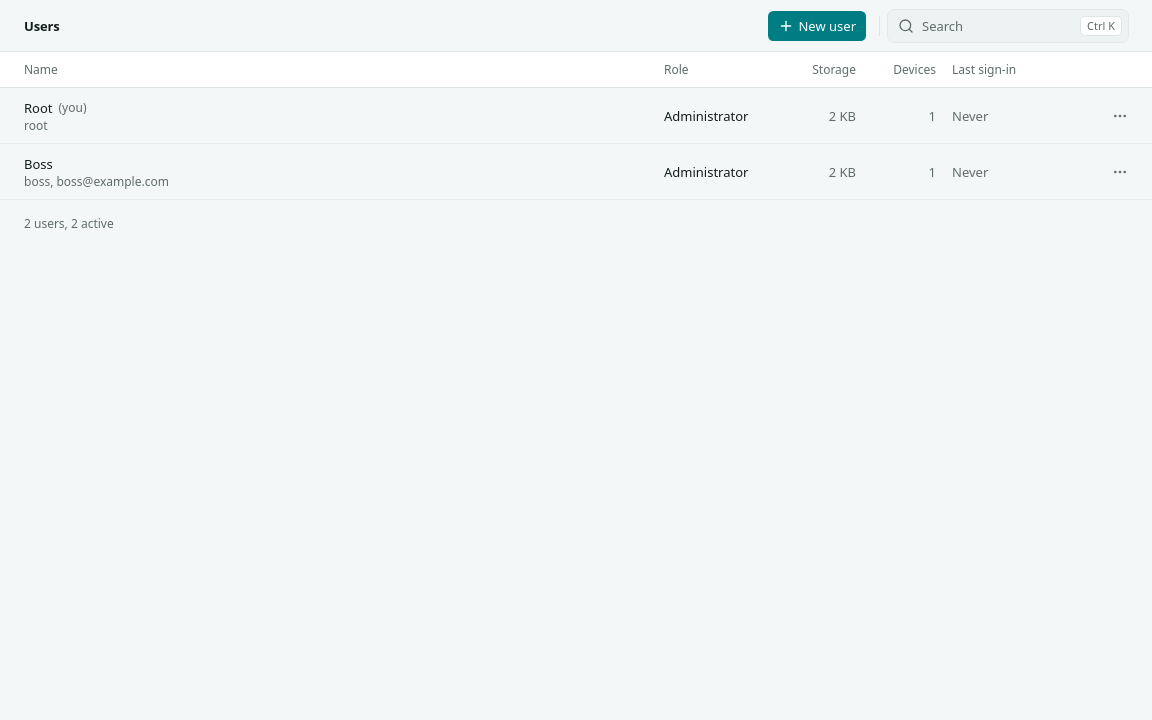
Test: shows the last-admin conflict inline in the edit dialog
The width and height of the screenshot is (1152, 720).
Press Enter in the button named "Actions for Boss", box x1=1104 y1=156 x2=1136 y2=188
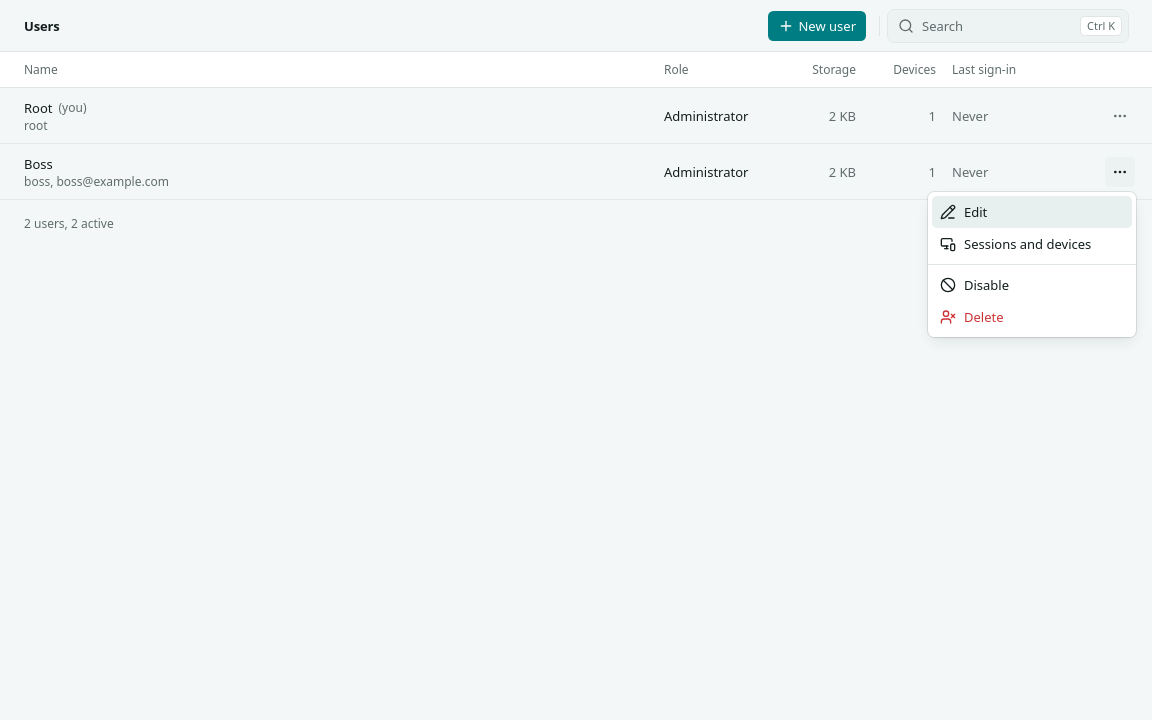
Click the menu item "Edit" at (1032, 212), box x1=932 y1=196 x2=1132 y2=228
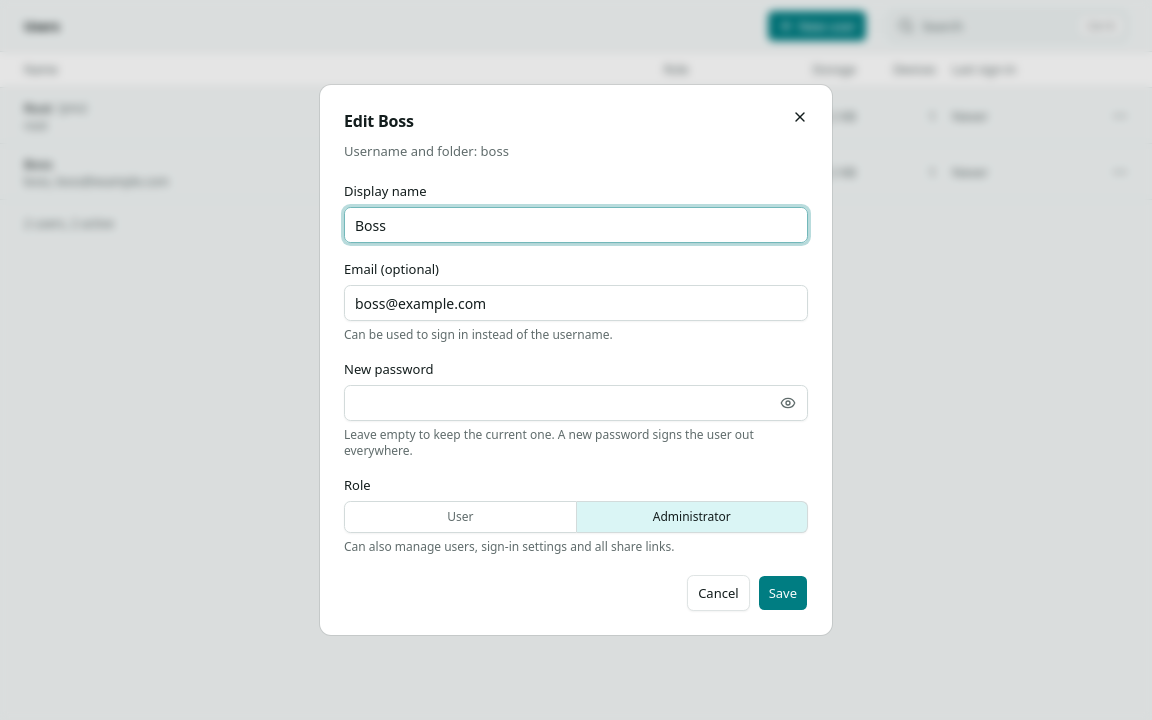
Click the radio button labelled "User" at (460, 517), box x1=344 y1=501 x2=576 y2=533
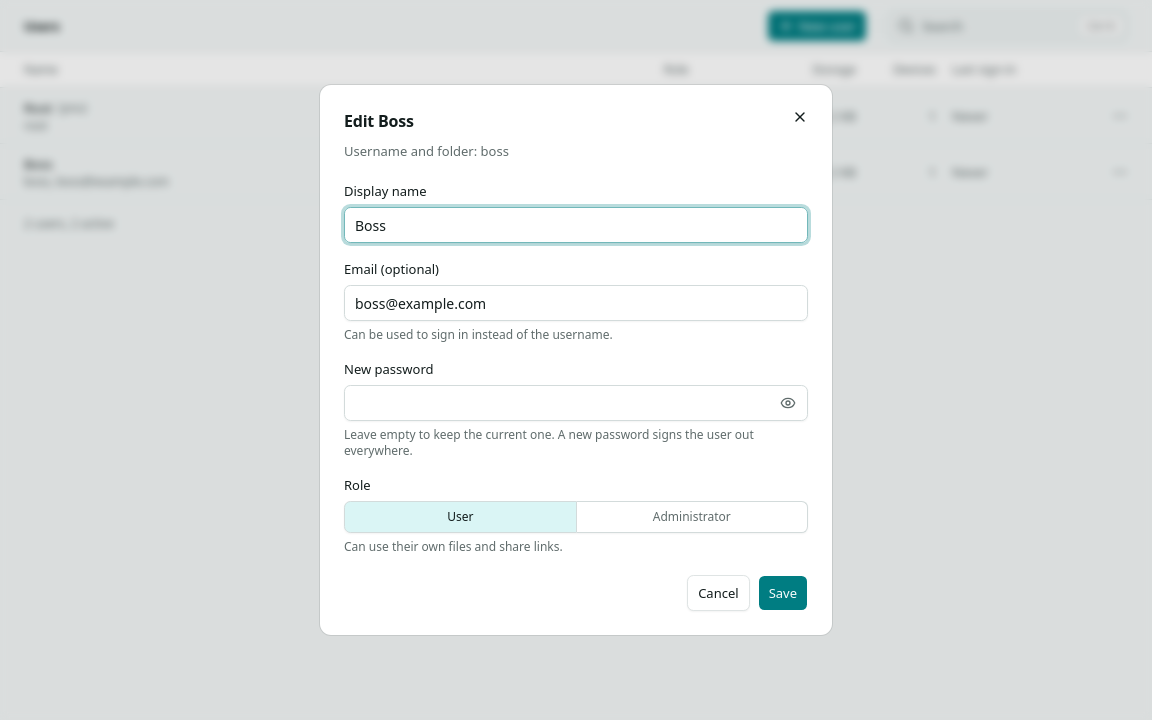
Click the button "Save" at (783, 593), box x1=758 y1=575 x2=808 y2=611
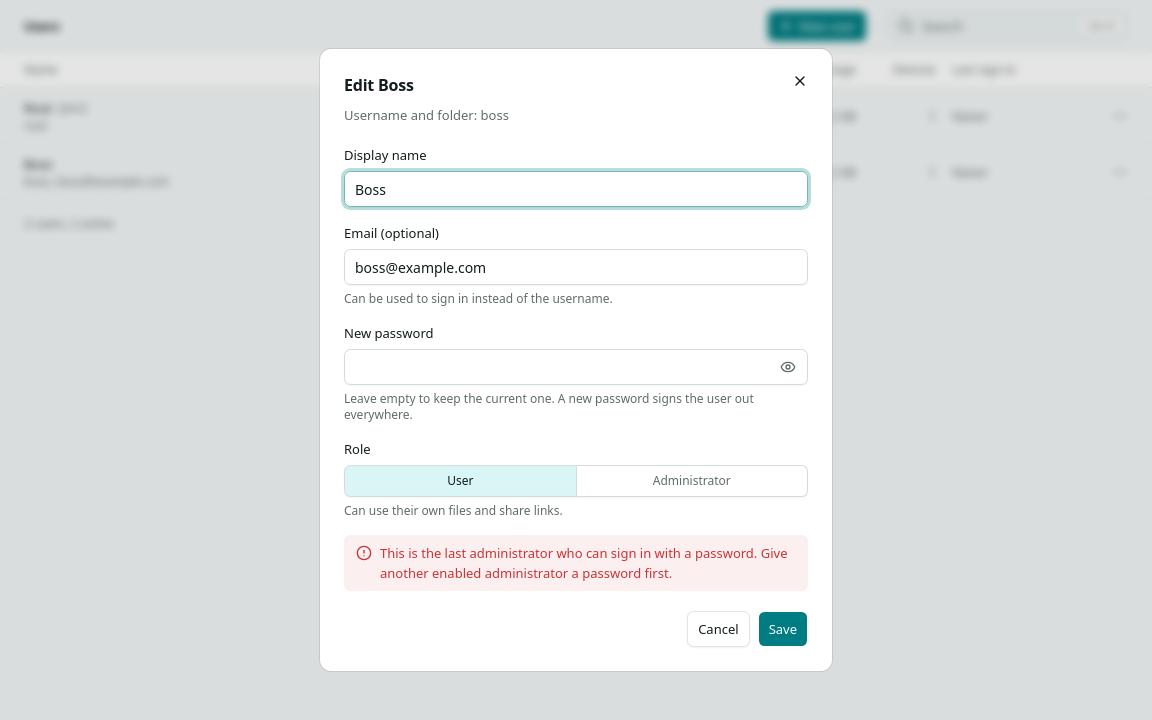
Expected: the dialog is shown, x1=320 y1=49 x2=832 y2=671
Expected: the message shows "last administrator who can sign in with a password", x1=380 y1=544 x2=788 y2=582
